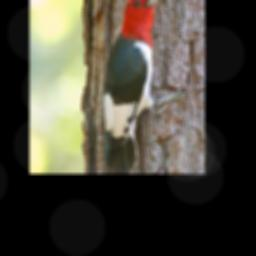Woodpecker: (102, 0, 187, 171)
